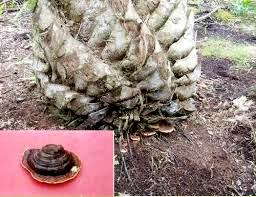Ganoderma - Fruit Body: (104, 82, 175, 123), (20, 145, 81, 185)
